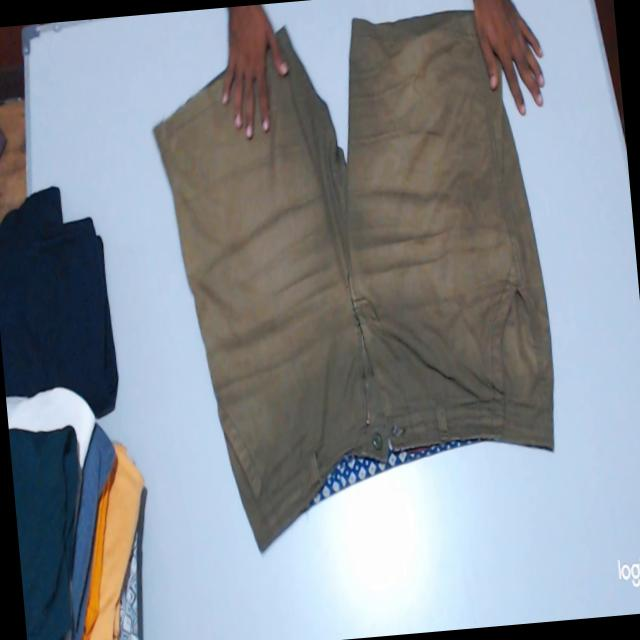new-garment: (154, 11, 553, 549)
